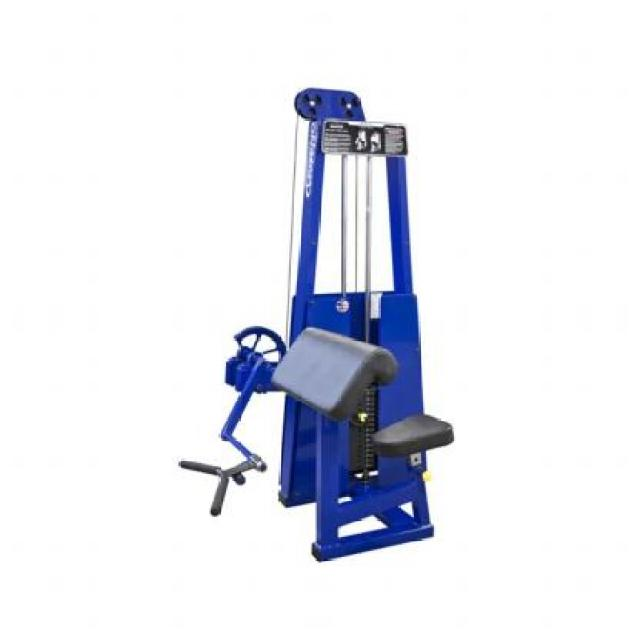arm curl machine: (181, 86, 454, 565)
